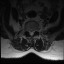CCS_normal: (30, 28, 32, 37)
LFS_severe_stenosis: (34, 27, 36, 33)
LLS_normal: (32, 28, 34, 36)
RFS_severe_stenosis: (27, 27, 29, 33)
RLS_normal: (29, 28, 30, 36)
